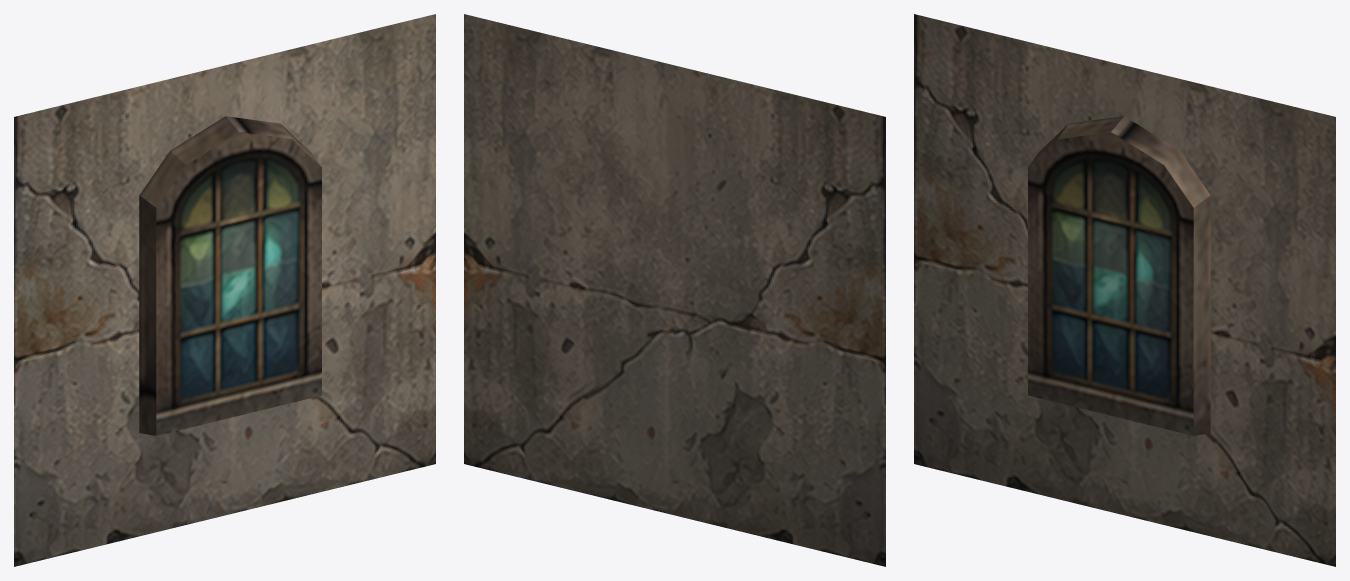
File: wall_concrete_4.fbx
3 renders of one model, left to right at view 1: azimuth 30°, elevation 25°; view 2: azimuth 150°, elevation 25°; view 3: azimuth 330°, elevation 25°, orthographic.
Parts seen in each view (by area): view 1: wall_concrete_4; view 2: wall_concrete_4; view 3: wall_concrete_4.
Boxes of the visible parts, bbox=[...] form: wall_concrete_4: bbox=[14, 14, 435, 566]; wall_concrete_4: bbox=[464, 14, 885, 566]; wall_concrete_4: bbox=[914, 14, 1335, 566].
Bounding box in the file's own units: 3 × 3.06 × 0.1738.
